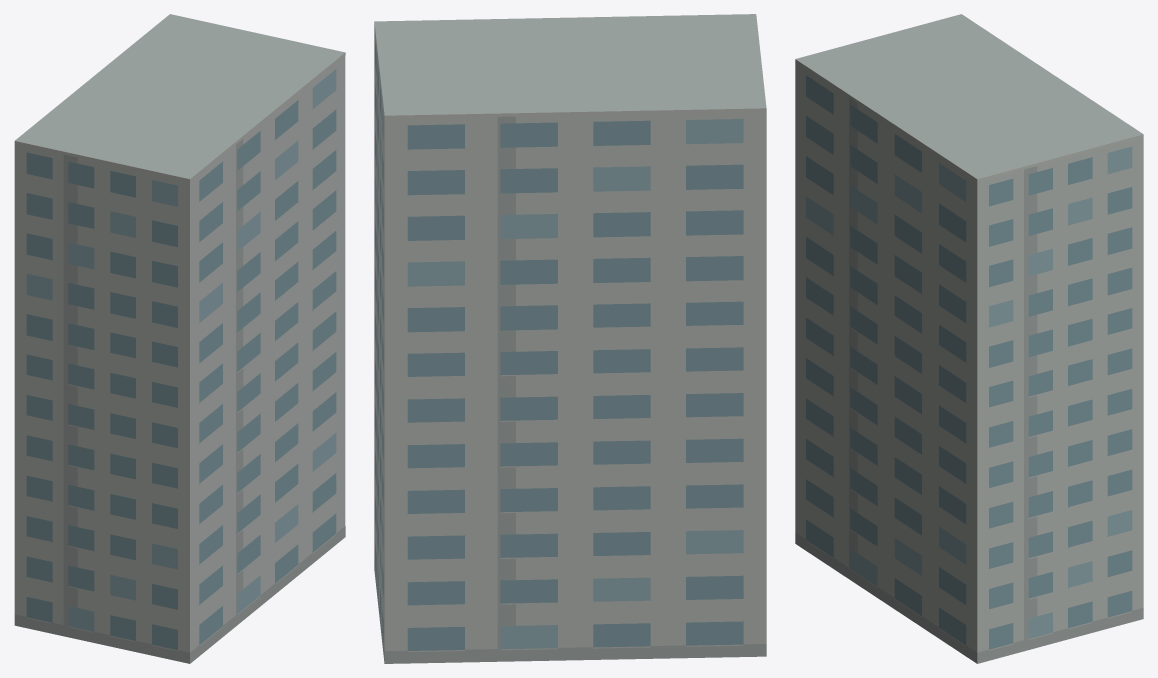
File: residential-0d06344f-a12d-4f68-83f2-4fc0e1e06776.glb
3 views of the same model, side by side, from view 1: azimuth 30°, elevation 25°; view 2: azimuth 150°, elevation 25°; view 3: azimuth 270°, elevation 25° (orthographic). The views are drawn at different scales.
Parts seen in each view (by area): view 1: residential-0d06344f-a12d-4f68-83f2-4fc0e1e06776.tmp; view 2: residential-0d06344f-a12d-4f68-83f2-4fc0e1e06776.tmp; view 3: residential-0d06344f-a12d-4f68-83f2-4fc0e1e06776.tmp.
Boxes of the visible parts, x1,y1,x2,y2 form: residential-0d06344f-a12d-4f68-83f2-4fc0e1e06776.tmp: (14,14,345,663); residential-0d06344f-a12d-4f68-83f2-4fc0e1e06776.tmp: (374,14,766,663); residential-0d06344f-a12d-4f68-83f2-4fc0e1e06776.tmp: (795,14,1143,663).
Size of the model in its own units: 29.27 by 40 by 26.08.
